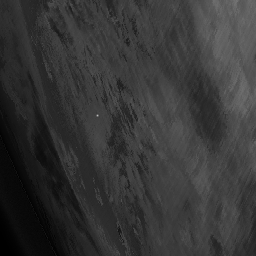Target: (95, 113, 100, 118)
